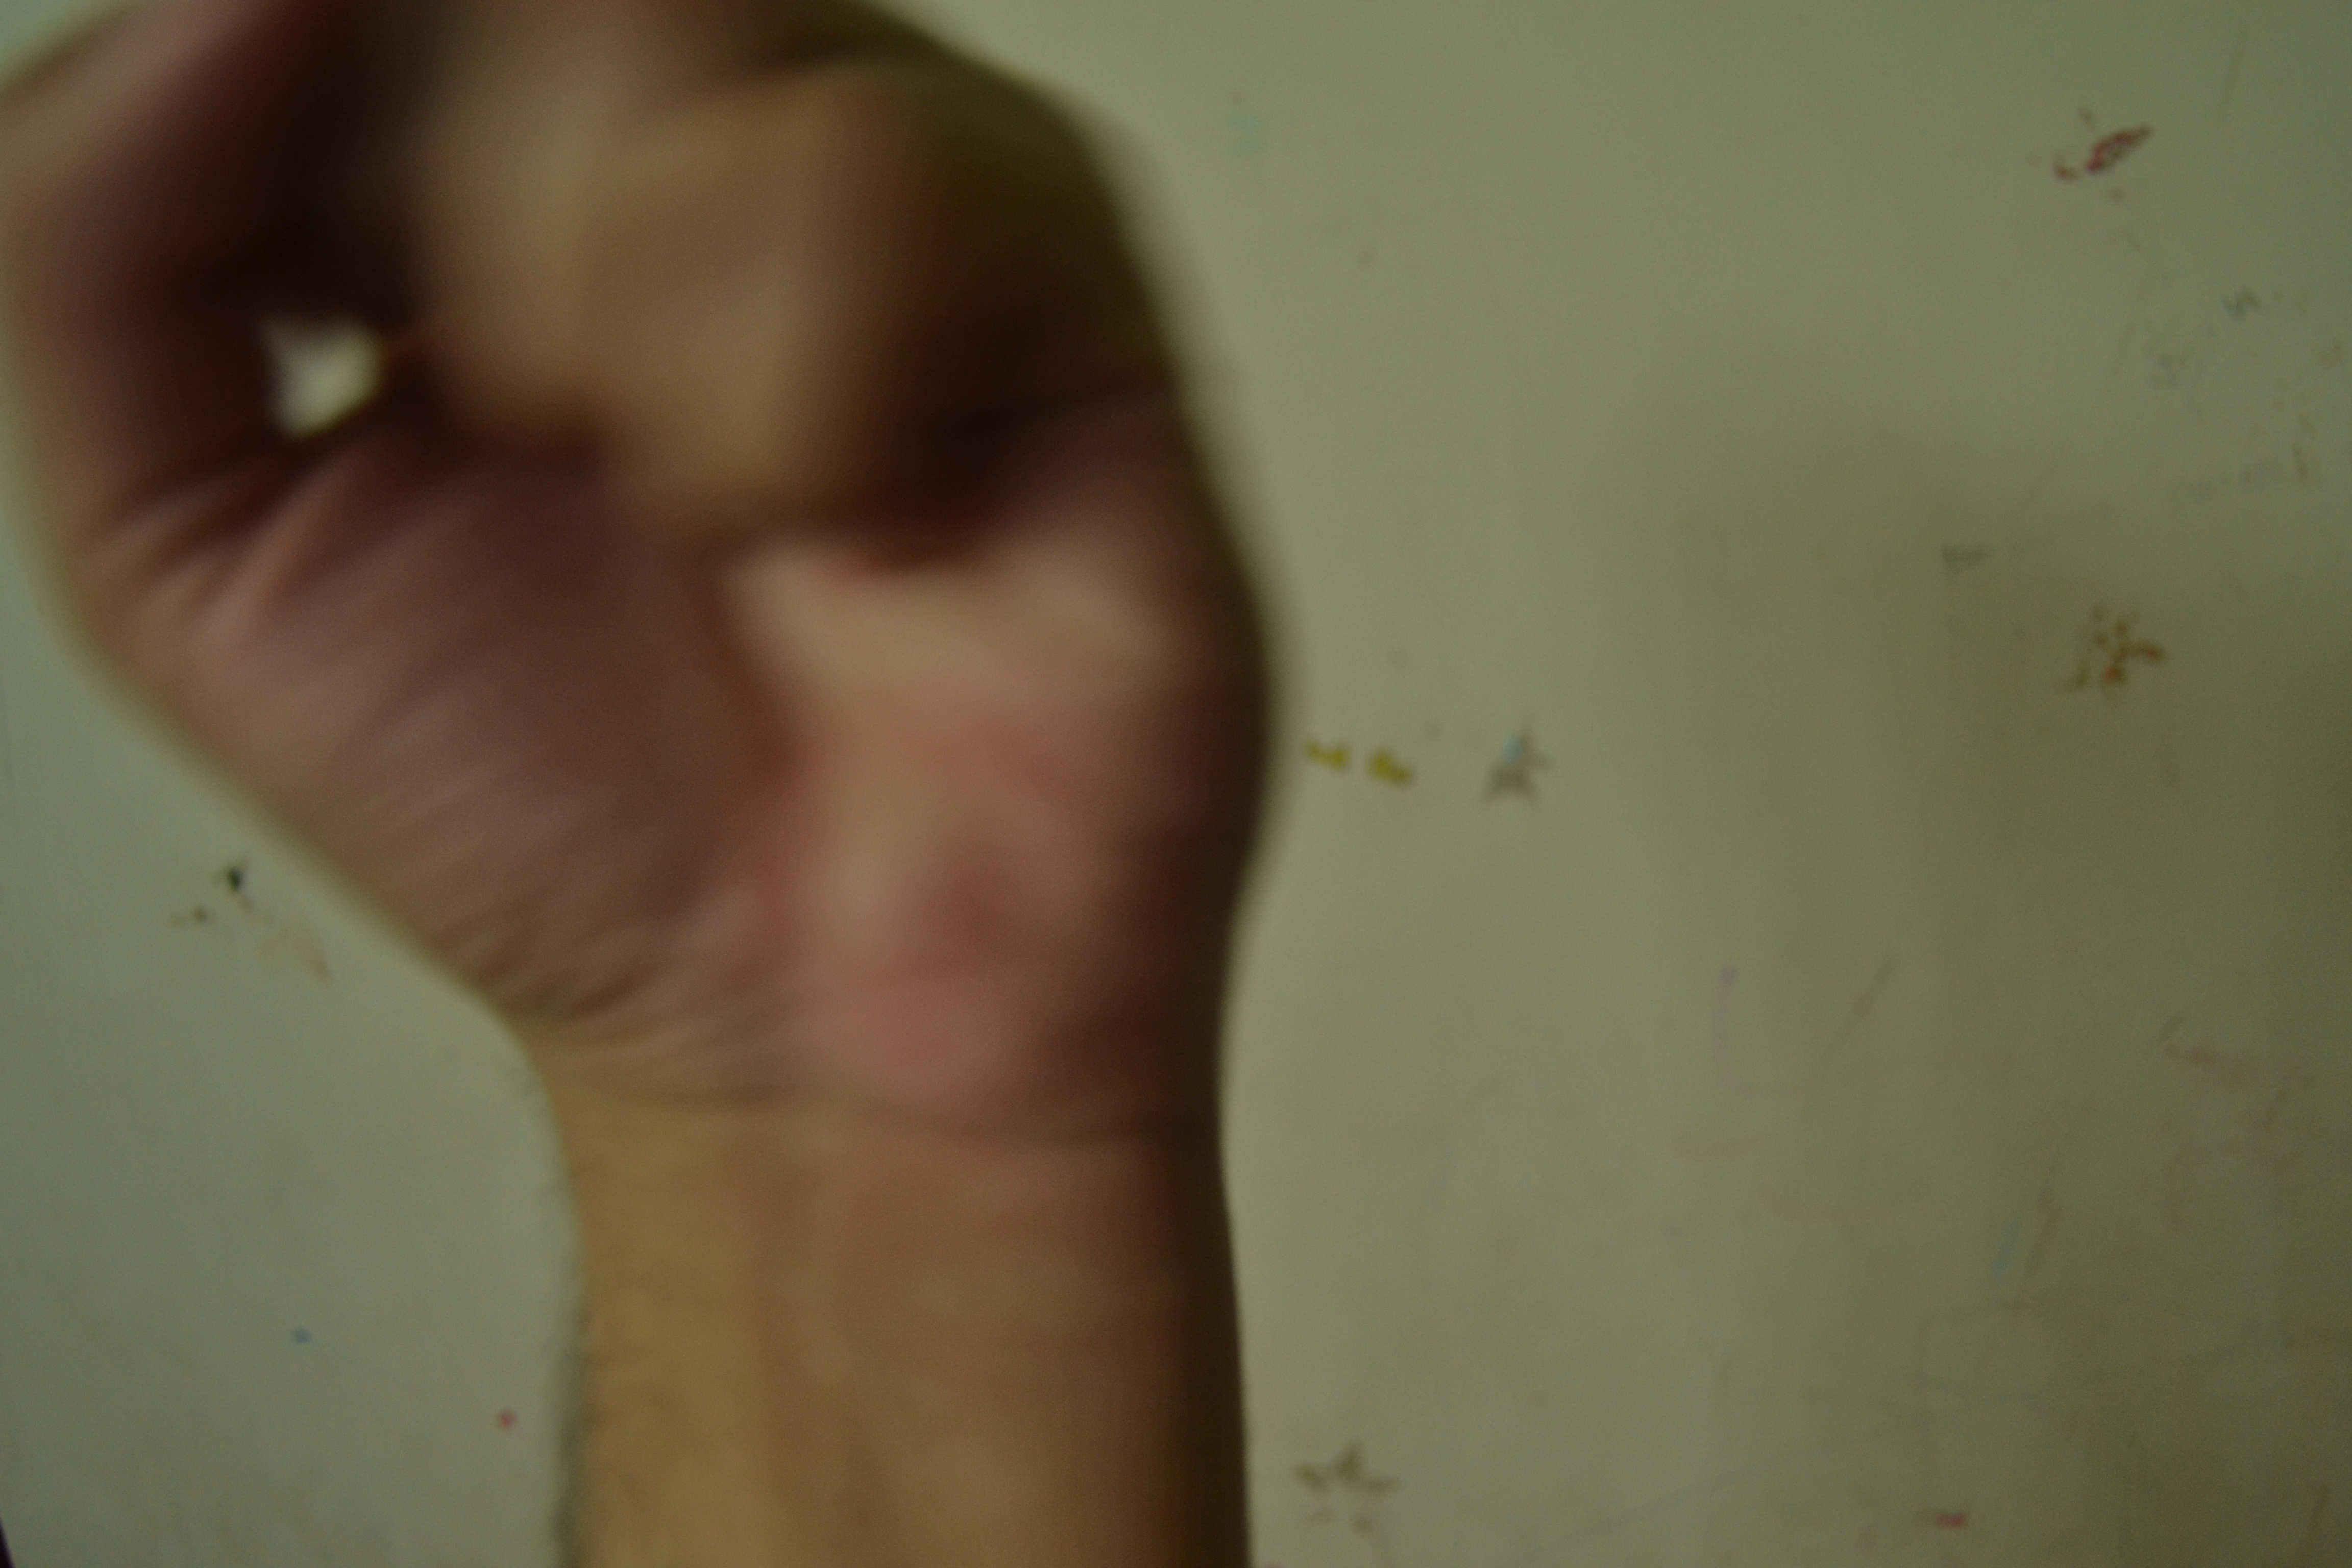click: (19, 0, 1291, 1136)
